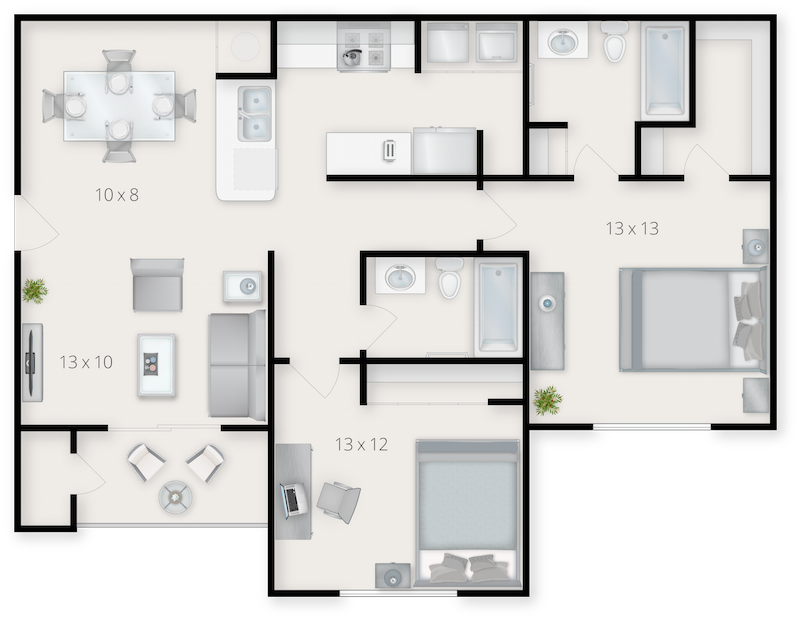balcony: (70, 421, 276, 537)
door: (267, 357, 532, 606), (21, 193, 64, 261), (486, 189, 520, 244), (370, 297, 402, 349), (569, 141, 619, 173), (567, 139, 617, 171), (292, 368, 342, 400), (679, 142, 729, 174), (77, 455, 110, 499)
room: (11, 13, 278, 432), (519, 173, 778, 431), (268, 12, 530, 185), (522, 16, 697, 183), (633, 9, 778, 185), (355, 248, 530, 368), (13, 421, 78, 534)
